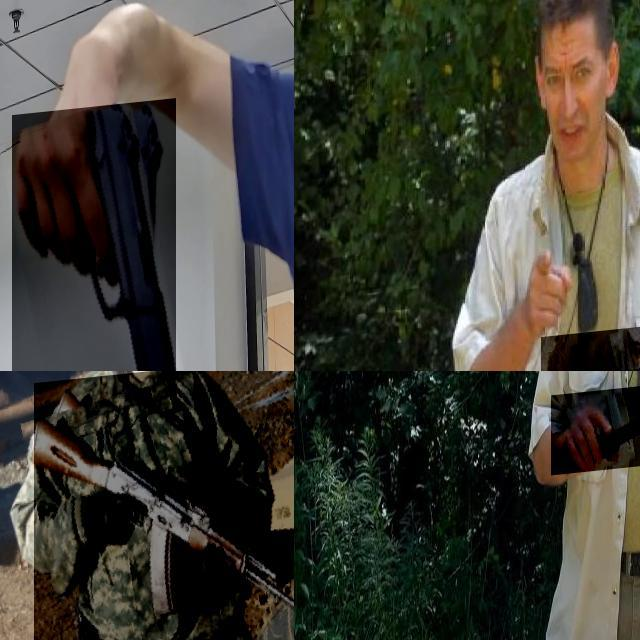-: (551, 390, 640, 481), (540, 334, 640, 371)
gun-knife-thesis - v11 Yolov5 augmented: (33, 371, 294, 640), (11, 108, 176, 371)
